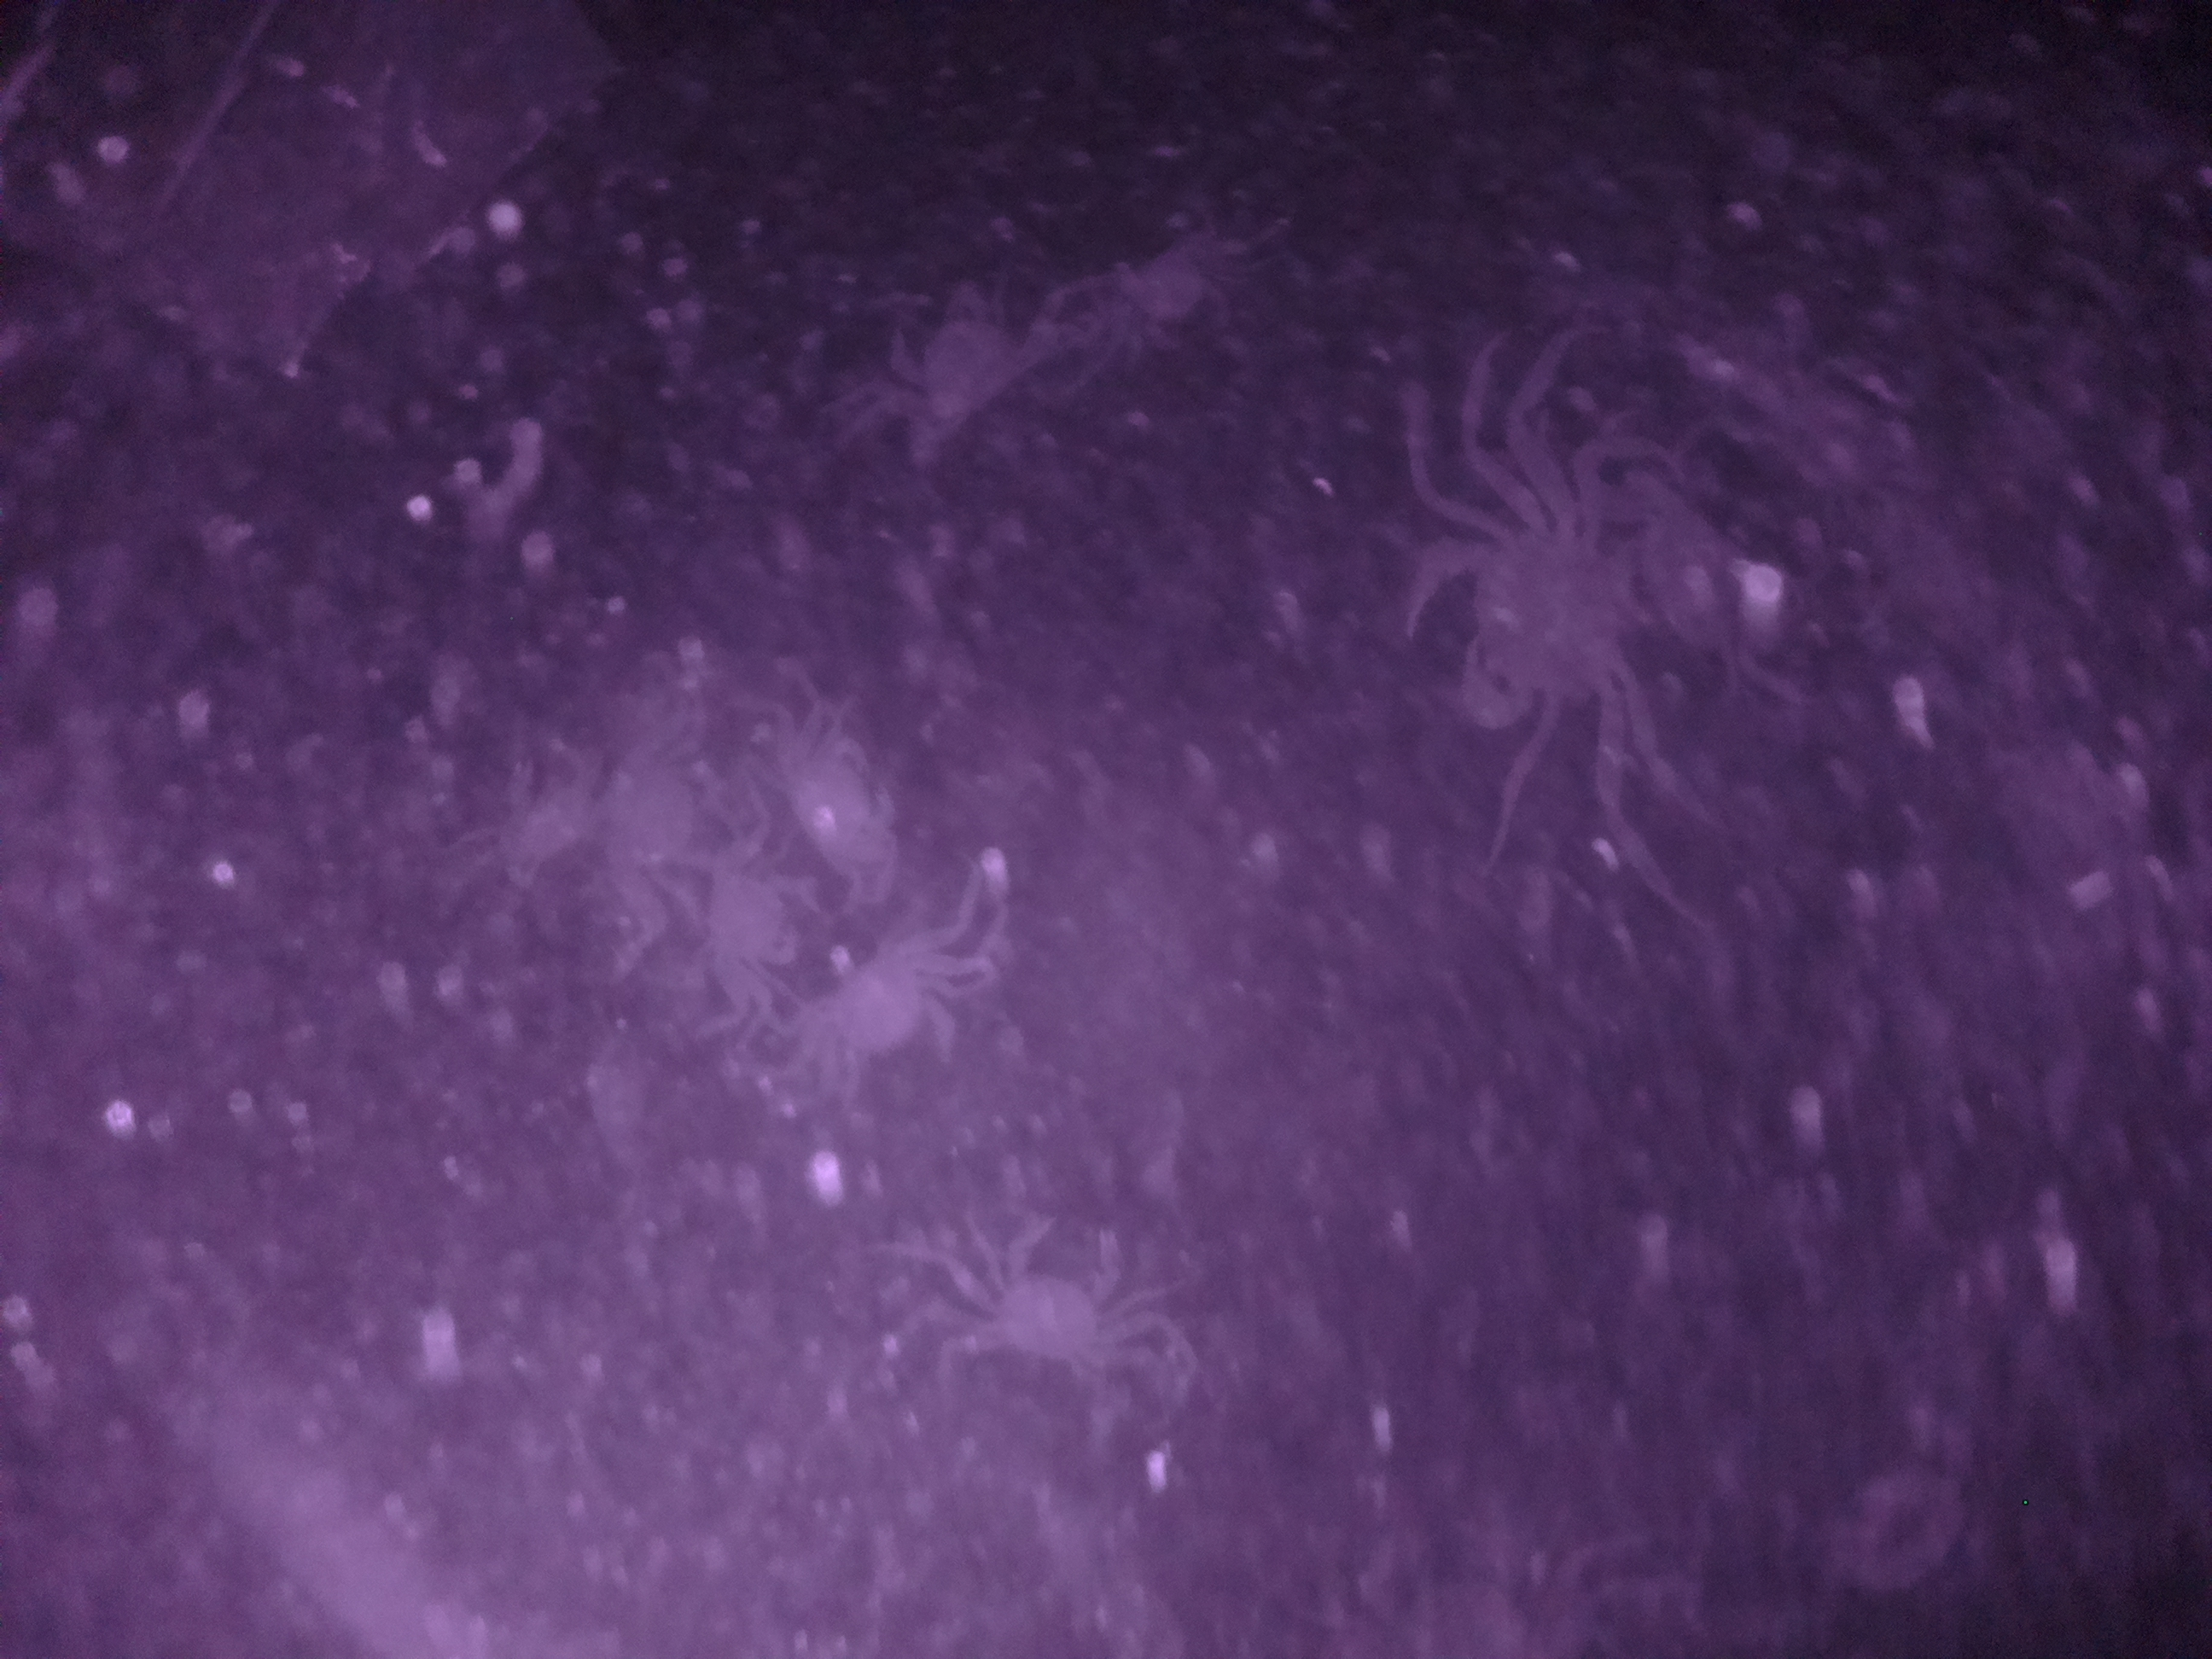Crab: (1385, 474, 1672, 748), (954, 1185, 1158, 1398), (782, 917, 979, 1110)
